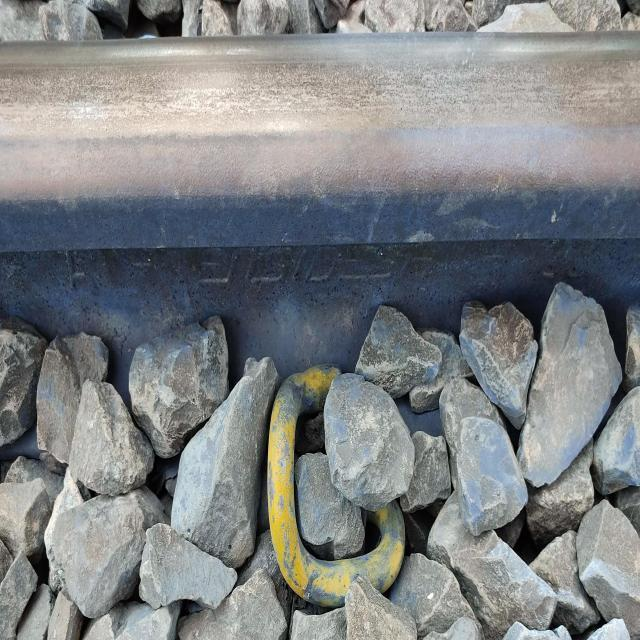Good Fasteners: (268, 365, 405, 608)
